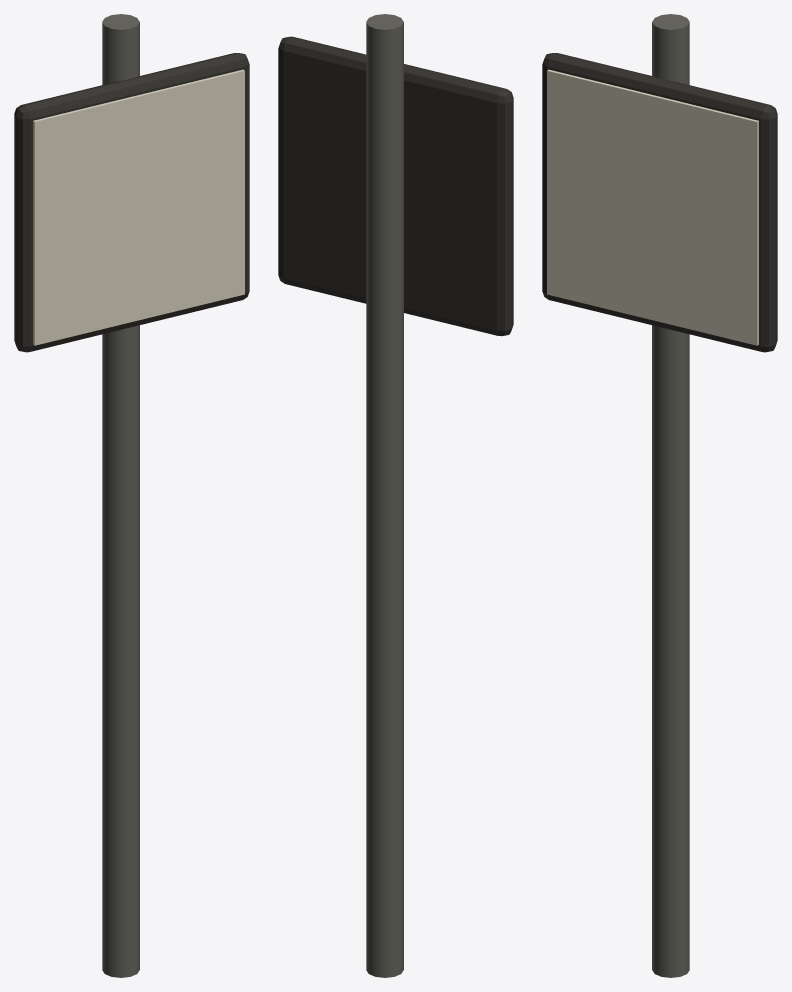
The model's file is MS_SP_05_BlankSignpost.glb.
3 renders of one model, left to right at view 1: azimuth 30°, elevation 25°; view 2: azimuth 150°, elevation 25°; view 3: azimuth 330°, elevation 25°, orthographic.
Visible parts, largest first — view 1: SignFace, Post.001, SignBacking; view 2: SignBacking, Post.001; view 3: SignFace, Post.001, SignBacking.
Boxes of the visible parts, x1,y1,x2,y2 form: SignFace: (33, 69, 244, 345); Post.001: (102, 14, 139, 977); SignBacking: (14, 53, 249, 352); SignBacking: (278, 36, 513, 336); Post.001: (366, 14, 403, 977); SignFace: (547, 69, 758, 345); Post.001: (652, 14, 689, 977); SignBacking: (542, 53, 777, 352).
Bounding box in the file's own units: 0.64 × 2.5 × 0.135.
